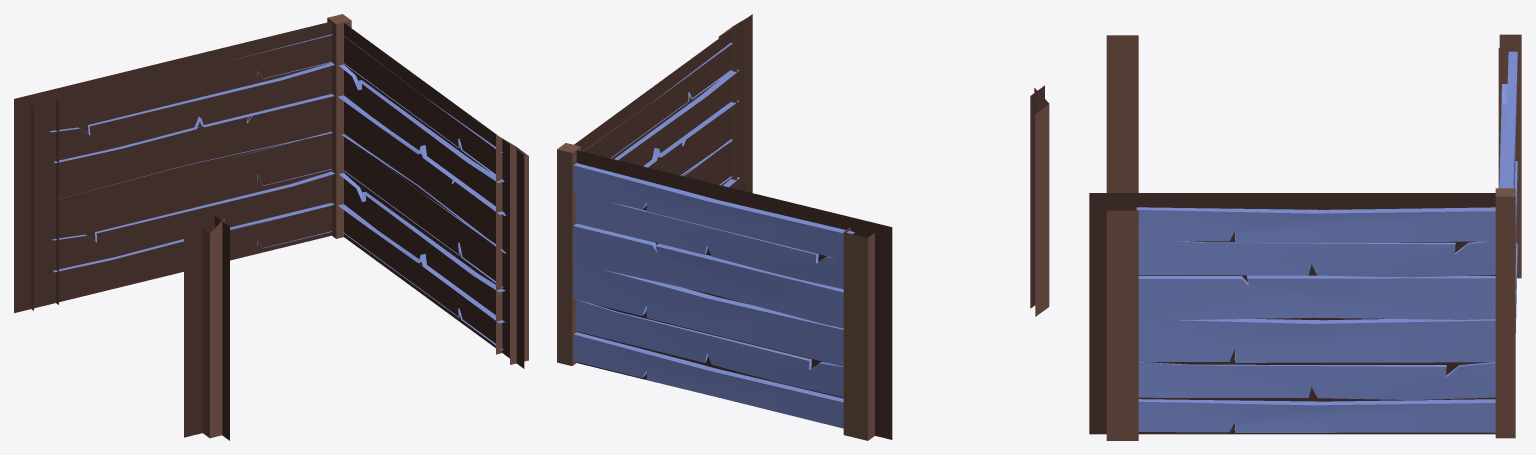
Rendered from Building_Angle_003.glb.
The picture shows the model from 3 angles, left to right: view 1: azimuth 30°, elevation 25°; view 2: azimuth 150°, elevation 25°; view 3: azimuth 270°, elevation 25°; orthographic projection. The views are drawn at different scales.
Parts seen in each view (by area): view 1: Building_Angle_003; view 2: Building_Angle_003; view 3: Building_Angle_003.
Boxes of the visible parts, left/top/right/bottom form: Building_Angle_003: left=14, top=14, right=528, bottom=440; Building_Angle_003: left=557, top=14, right=1049, bottom=440; Building_Angle_003: left=1089, top=34, right=1521, bottom=440.
Size of the model in its own units: 7.4 by 4.61 by 7.29.
Materials: 1 (1 with a texture image).
